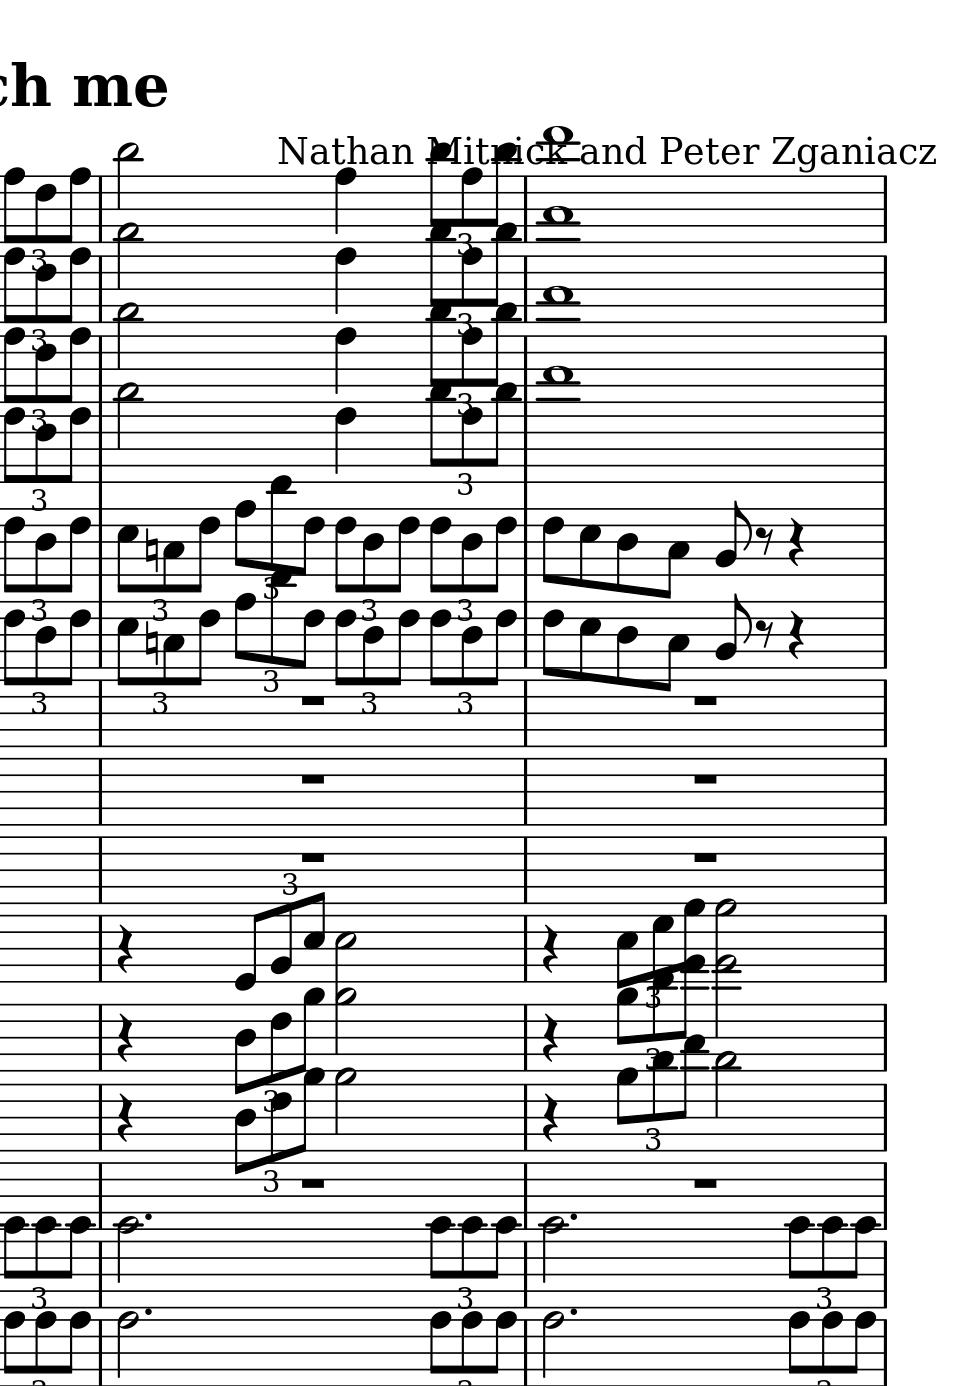3: (813, 1285, 832, 1310), (151, 691, 168, 716), (813, 1378, 832, 1386)
8_2: (714, 592, 751, 674), (715, 498, 751, 578)
8_6: (297, 507, 323, 580), (33, 174, 57, 244)
8_8: (58, 245, 93, 326), (59, 166, 93, 245), (230, 499, 257, 580)
Natural: (143, 619, 159, 667), (143, 527, 159, 574)
Rests1: (296, 769, 330, 790), (297, 846, 330, 867), (689, 769, 721, 789), (690, 847, 721, 866), (297, 692, 328, 710), (298, 1174, 327, 1193), (692, 692, 721, 710), (690, 1175, 720, 1193)
Rests4: (783, 607, 805, 661), (113, 1091, 136, 1145), (540, 1011, 562, 1062), (113, 922, 135, 975), (540, 922, 561, 975), (113, 1011, 135, 1063), (540, 1092, 561, 1143), (785, 515, 804, 568)
Rests8: (756, 618, 775, 651), (756, 526, 774, 557)
Single_barline: (872, 409, 894, 483), (876, 1162, 896, 1230), (876, 1318, 896, 1386), (873, 508, 892, 575), (876, 1241, 894, 1309), (877, 1083, 894, 1153), (517, 175, 535, 241), (877, 915, 894, 984), (876, 601, 892, 670), (517, 681, 532, 749), (878, 757, 893, 827), (878, 256, 893, 324), (878, 836, 893, 905), (878, 1004, 893, 1073), (92, 681, 107, 749), (518, 759, 532, 826), (878, 678, 892, 749), (518, 838, 532, 902), (875, 335, 892, 391), (94, 1321, 109, 1385), (519, 1321, 533, 1385), (879, 177, 893, 244), (93, 759, 107, 824), (519, 917, 532, 982), (519, 1244, 532, 1309), (93, 834, 106, 903), (520, 1005, 532, 1070), (94, 1244, 107, 1308), (94, 916, 106, 982), (94, 1005, 106, 1071), (521, 1092, 533, 1152), (94, 176, 107, 232), (519, 1164, 532, 1215)
dot: (568, 1212, 577, 1224)
